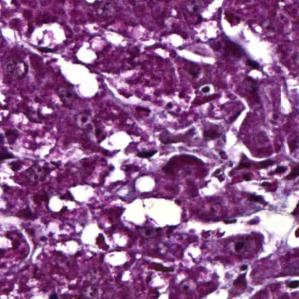ballooning: (119, 196, 187, 234)
